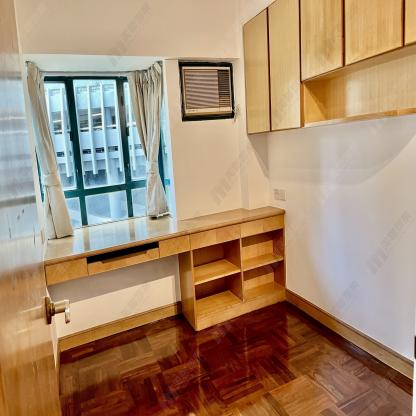AC: (172, 52, 240, 128)
Desk: (54, 204, 298, 364)
Door: (0, 0, 63, 416)
